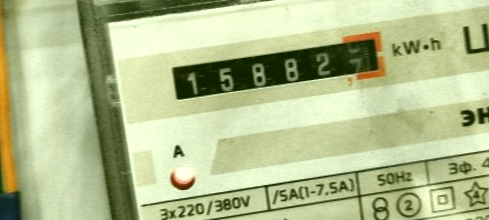1: (182, 69, 200, 99)
2: (312, 51, 331, 81)
5: (214, 66, 235, 95)
7: (345, 56, 363, 75)
8: (247, 61, 266, 91), (280, 56, 299, 86)
screen: (155, 24, 396, 116)
